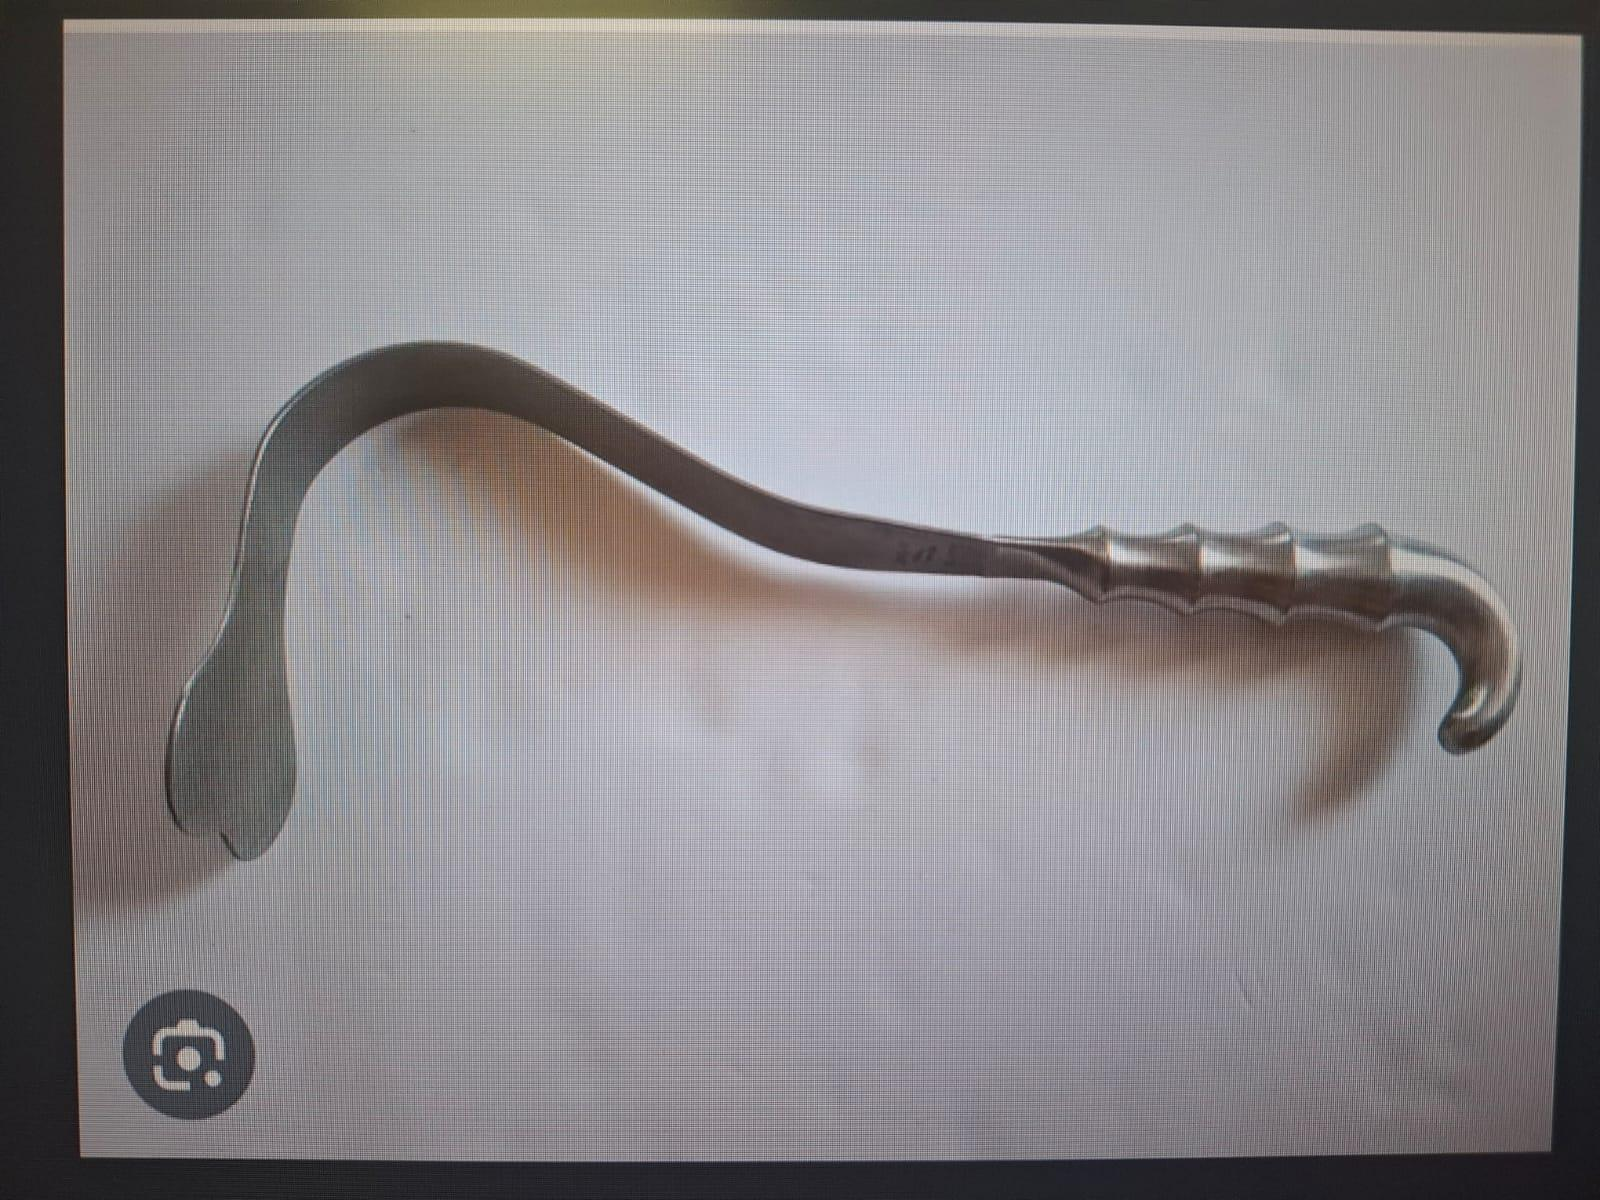Harrington Retractor: (157, 316, 1540, 866)
